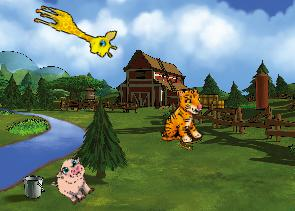giraffe: (27, 2, 122, 61)
pig: (46, 153, 101, 209)
tiger: (156, 87, 207, 146)
